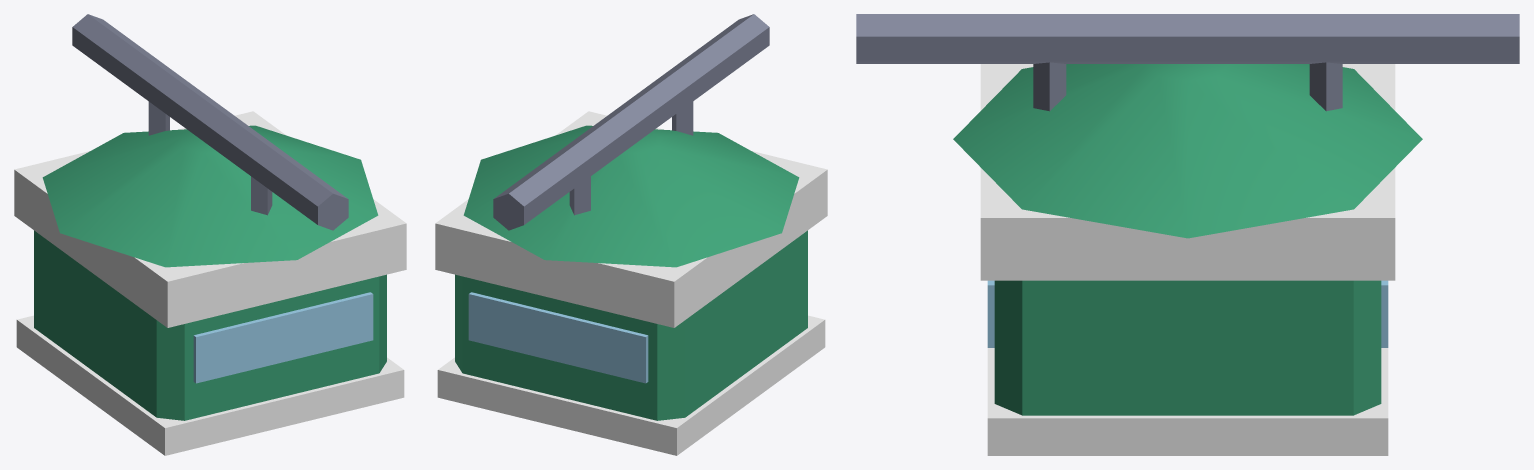
Rendered from ferris-wheel.gondola-3.glb.
The picture shows the model from 3 angles, left to right: view 1: azimuth 30°, elevation 25°; view 2: azimuth 150°, elevation 25°; view 3: azimuth 270°, elevation 25°; orthographic projection. The views are drawn at different scales.
Visible parts, largest first — view 1: model; view 2: model; view 3: model.
Part boxes in pixels (x1=…): model: x1=14, y1=14, x2=406, y2=455; model: x1=435, y1=14, x2=827, y2=455; model: x1=856, y1=14, x2=1519, y2=455.
Bounding box in the file's own units: 0.34 × 0.29 × 0.48.
Materials: 1 (1 with a texture image).
